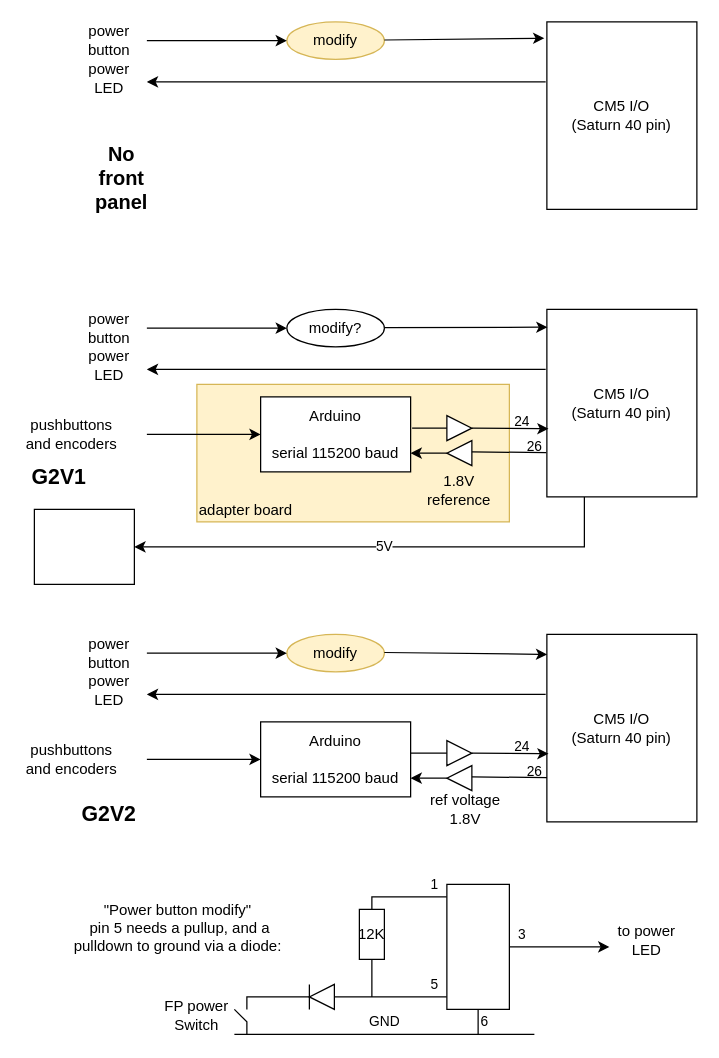
This 719x1058 diagram has some shape labels left out. The centre of each missing label's shape, as x and y in pixels:
CM5: the point at 477,946
Display: the point at 83,546
